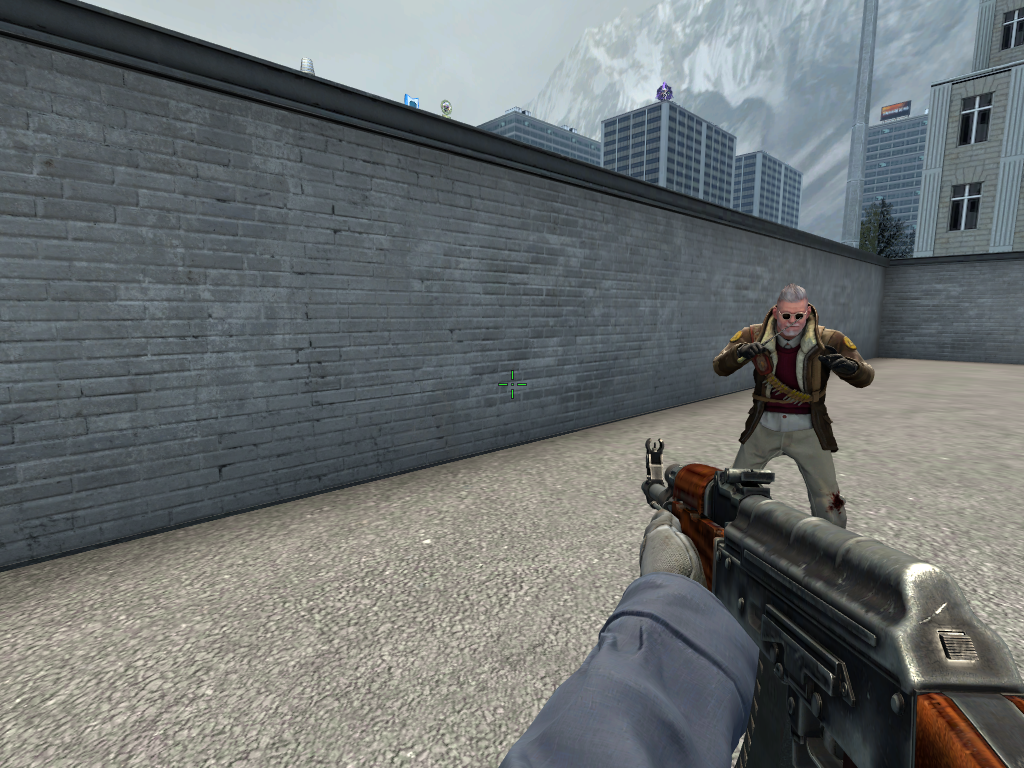tr head: (775, 291, 806, 336)
